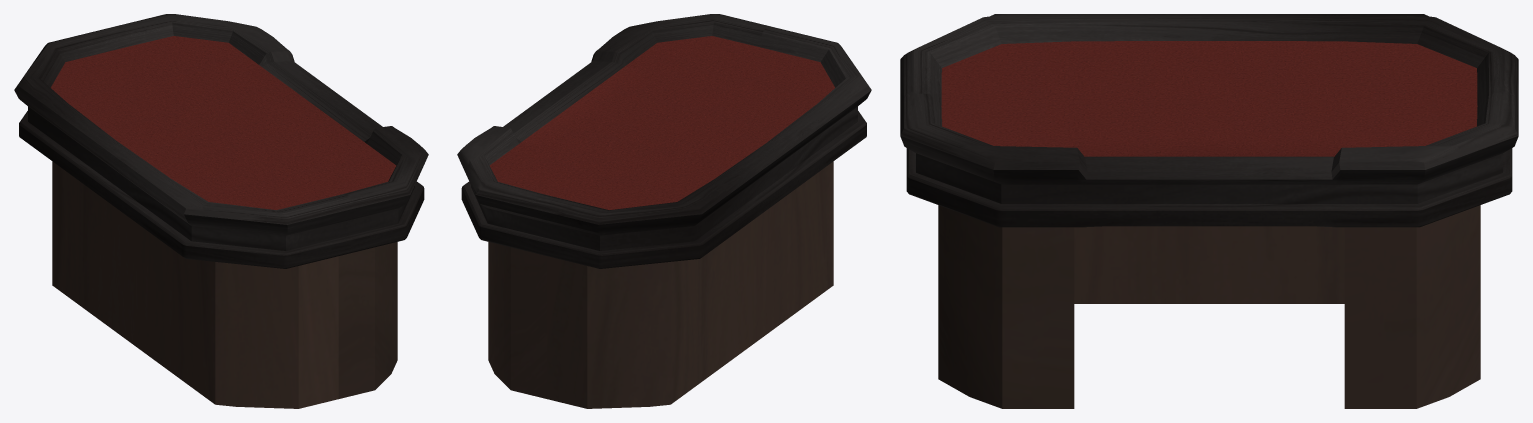
File: table_02.fbx
3 renders of one model, left to right at view 1: azimuth 30°, elevation 25°; view 2: azimuth 150°, elevation 25°; view 3: azimuth 270°, elevation 25°, orthographic. The views are drawn at different scales.
Visible parts, largest first — view 1: GameTable; view 2: GameTable; view 3: GameTable.
Part boxes in pixels (left/top/right/bottom): GameTable: left=14, top=14, right=428, bottom=408; GameTable: left=457, top=14, right=871, bottom=408; GameTable: left=900, top=14, right=1518, bottom=408.
Size of the model in its own units: 1.42 by 1.16 by 2.45.
1 material, 1 textured.
